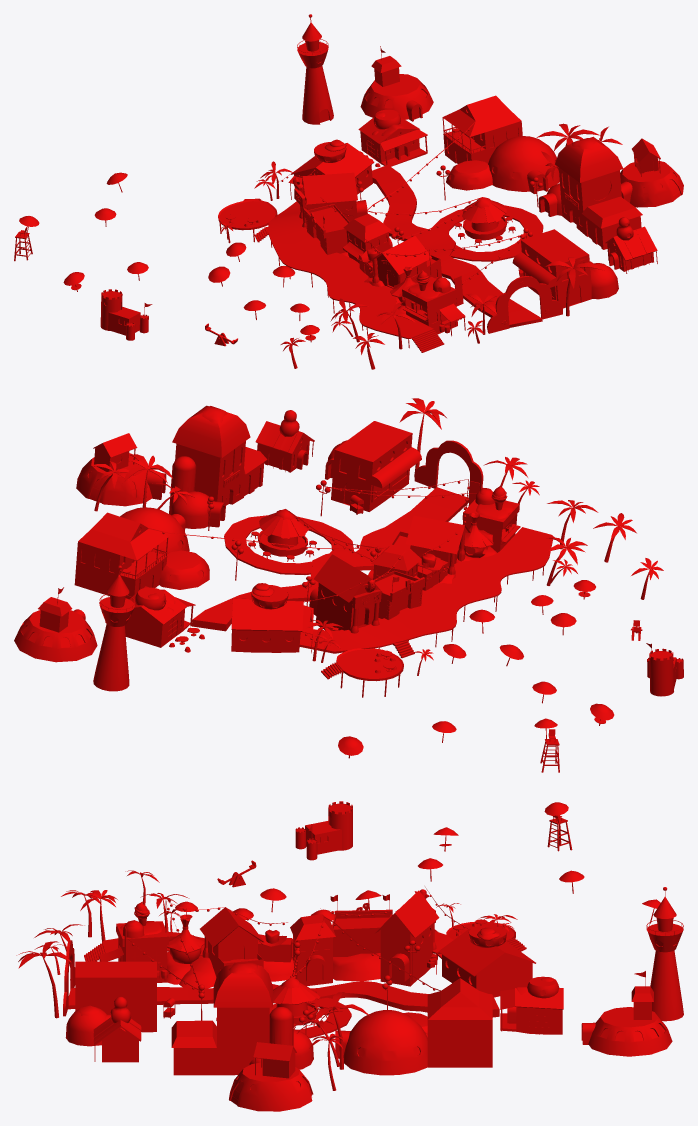
Rendered from Neighborhood_BowlCutBeach_Locked_03.glb.
3 renders of one model, top to bottom at view 1: azimuth 30°, elevation 25°; view 2: azimuth 150°, elevation 25°; view 3: azimuth 270°, elevation 25°, orthographic. The views are drawn at different scales.
Parts seen in each view (by area): view 1: Bowlcut; view 2: Bowlcut; view 3: Bowlcut.
Part boxes in pixels (left/top/right/bottom): Bowlcut: left=14, top=14, right=683, bottom=369; Bowlcut: left=14, top=398, right=683, bottom=772; Bowlcut: left=16, top=801, right=683, bottom=1111.
Bounding box in the file's own units: 56.57 × 13.25 × 50.99.
